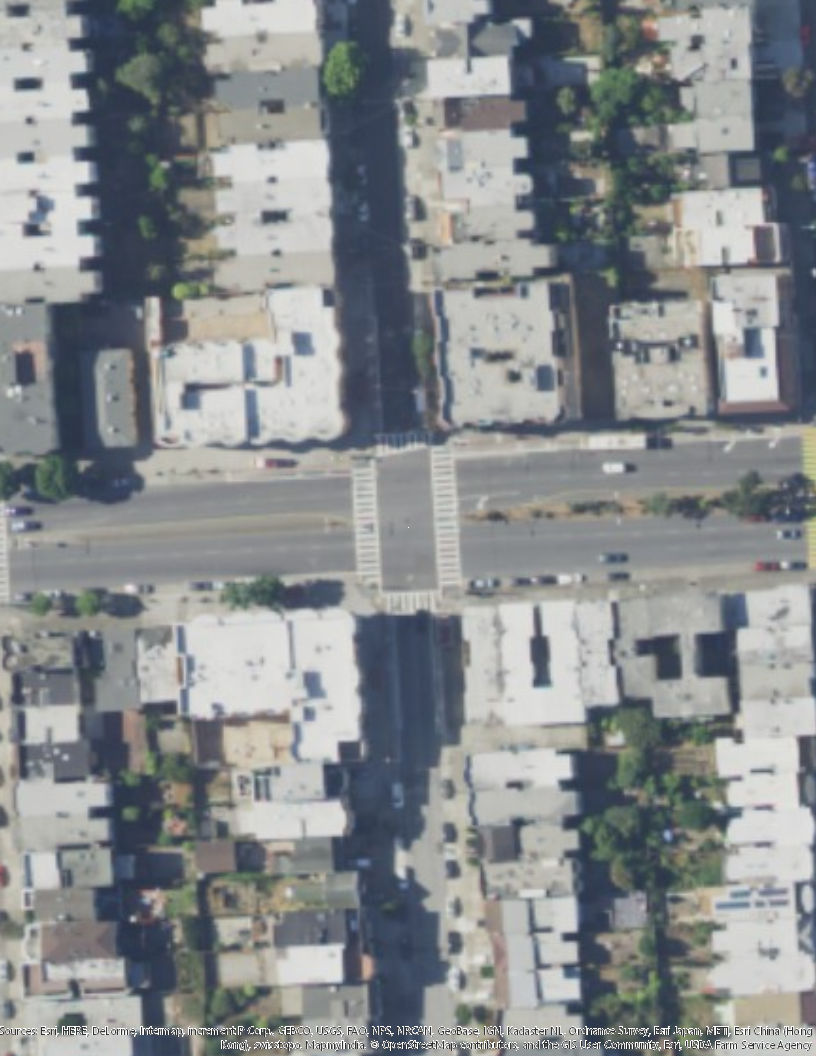zebracross: (428, 448, 464, 587), (350, 463, 384, 584), (801, 427, 816, 571), (373, 428, 428, 457), (380, 588, 439, 613)
